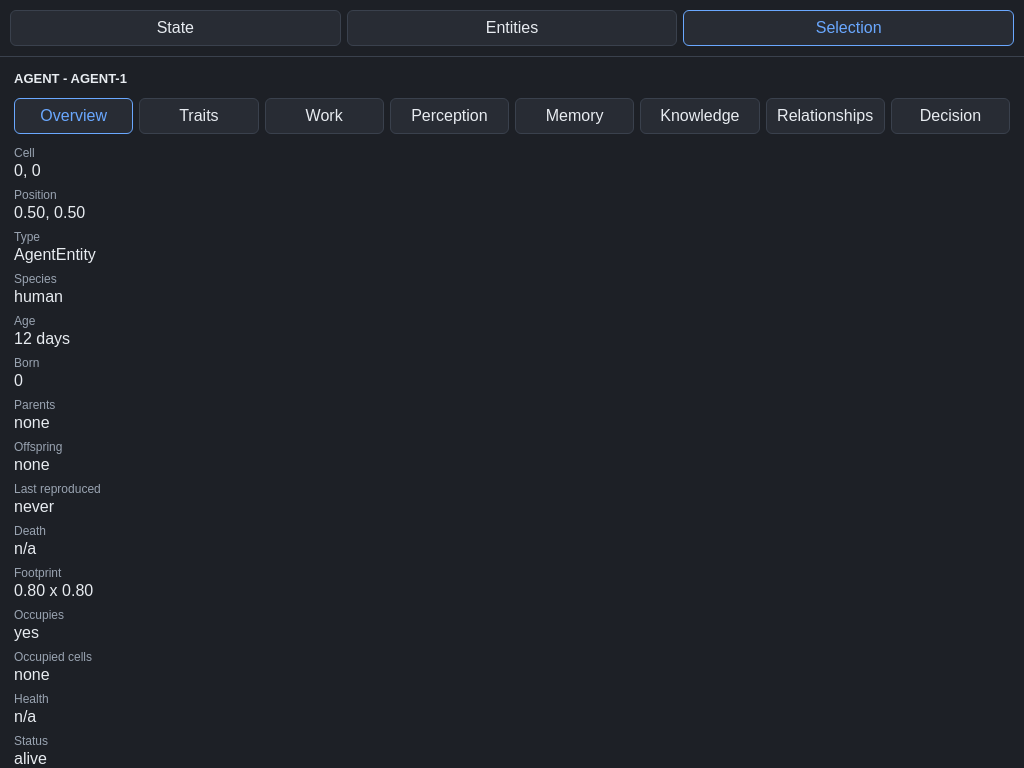
Test: Inspector › renders empty perception states for selected agents
The image size is (1024, 768).
Click the button "Perception". click: (449, 116)
box: [390,98,509,134]
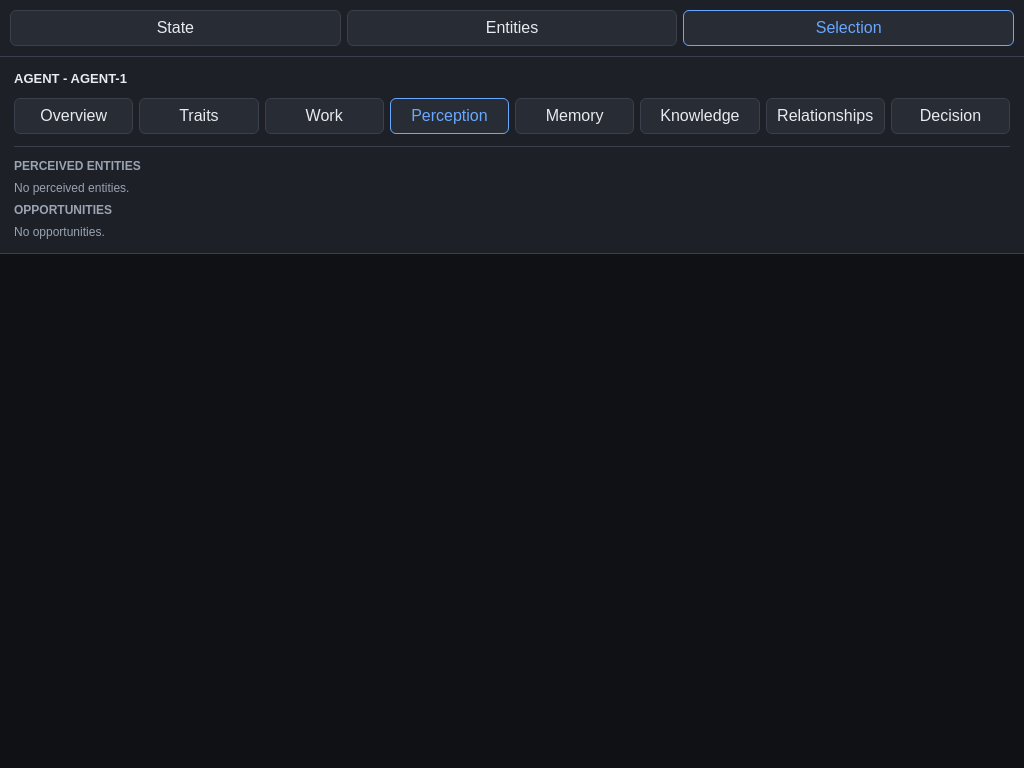
Now the text "No perceived entities." is shown, box [14,181,129,195]
Now the text "No opportunities." is shown, box [14,225,105,239]
